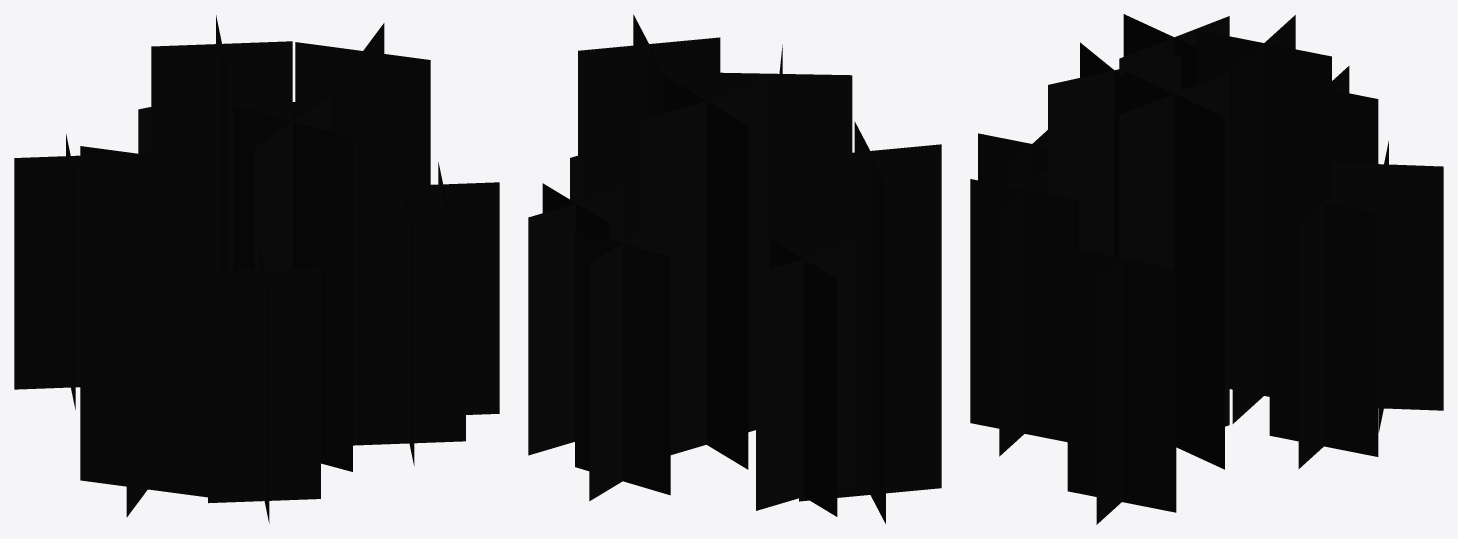
The model's file is sweet_cyan_reed_stage2.obj.
3 renders of one model, left to right at view 1: azimuth 30°, elevation 25°; view 2: azimuth 150°, elevation 25°; view 3: azimuth 270°, elevation 25°, orthographic. The views are drawn at different scales.
Visible parts, largest first — view 1: cube_9, cube_21, cube_18, cube_6, cube_14, cube_3, cube_5, cube_22, cube_8, cube_7, cube_4, cube_2 (+4 smaller); view 2: cube_8, cube_2, cube_3, cube_15, cube_13, cube_4, cube_16, cube_7, cube_14, cube_12, cube_9, cube_17 (+2 smaller); view 3: cube_16, cube_23, cube_19, cube_4, cube_12, cube_2, cube_3, cube_5, cube_6, cube_17, cube_18, cube_22 (+7 smaller).
Boxes of the visible parts, x1=… form: cube_9: x1=80, y1=146, x2=215, y2=497; cube_21: x1=208, y1=267, x2=320, y2=503; cube_18: x1=353, y1=210, x2=465, y2=445; cube_6: x1=233, y1=105, x2=352, y2=471; cube_14: x1=14, y1=155, x2=80, y2=389; cube_3: x1=151, y1=41, x2=292, y2=271; cube_5: x1=295, y1=42, x2=430, y2=213; cube_22: x1=386, y1=182, x2=499, y2=414; cube_8: x1=126, y1=127, x2=169, y2=517; cube_7: x1=255, y1=96, x2=331, y2=269; cube_4: x1=341, y1=23, x2=384, y2=213; cube_2: x1=216, y1=15, x2=228, y2=270; cube_8: x1=799, y1=144, x2=941, y2=501; cube_2: x1=646, y1=83, x2=766, y2=454; cube_3: x1=664, y1=76, x2=748, y2=469; cube_15: x1=756, y1=244, x2=851, y2=510; cube_13: x1=575, y1=229, x2=670, y2=495; cube_4: x1=578, y1=37, x2=720, y2=242; cube_16: x1=528, y1=189, x2=623, y2=455; cube_7: x1=706, y1=72, x2=852, y2=269; cube_14: x1=770, y1=239, x2=837, y2=516; cube_12: x1=589, y1=223, x2=656, y2=501; cube_9: x1=854, y1=121, x2=885, y2=523; cube_17: x1=542, y1=183, x2=609, y2=238; cube_16: x1=1269, y1=191, x2=1378, y2=456; cube_23: x1=1067, y1=247, x2=1176, y2=512; cube_19: x1=970, y1=179, x2=1078, y2=442; cube_4: x1=1123, y1=70, x2=1224, y2=469; cube_12: x1=1332, y1=162, x2=1443, y2=410; cube_2: x1=1196, y1=30, x2=1331, y2=396; cube_3: x1=1232, y1=15, x2=1295, y2=423; cube_5: x1=1119, y1=72, x2=1229, y2=426; cube_6: x1=1048, y1=55, x2=1180, y2=256; cube_17: x1=1298, y1=180, x2=1349, y2=468; cube_18: x1=999, y1=167, x2=1049, y2=456; cube_22: x1=1096, y1=244, x2=1137, y2=524.
Bounding box in the file's own units: 0.9297 × 0.9375 × 0.9878.
